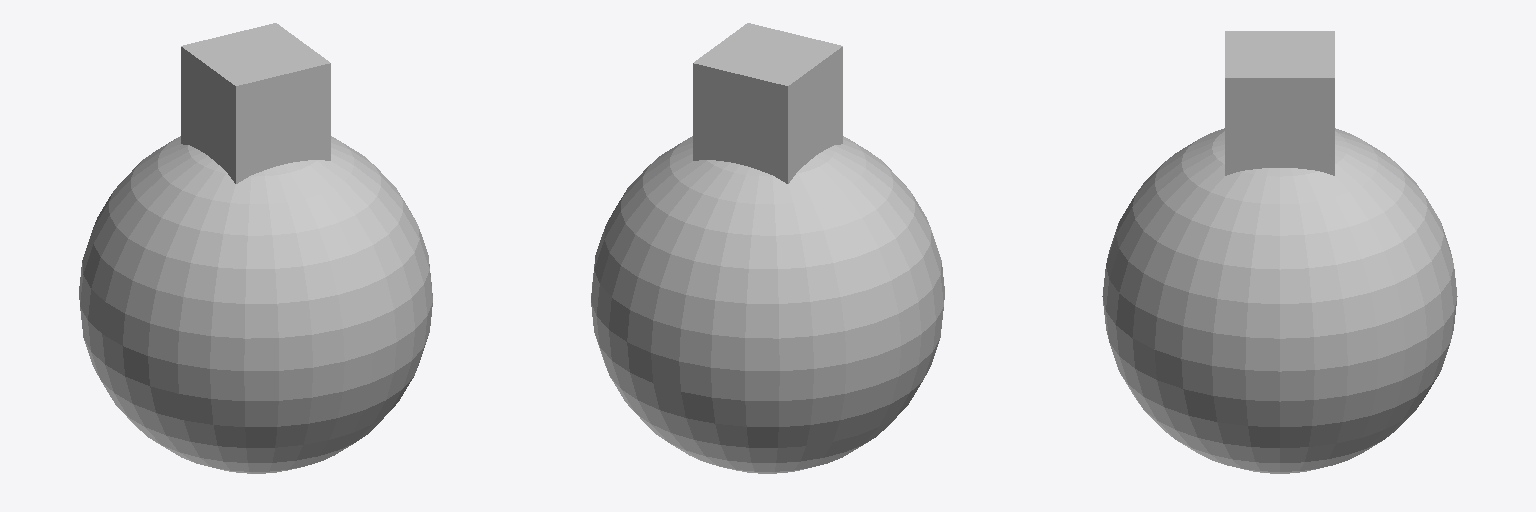
File: lamp.obj
3 renders of one model, left to right at view 1: azimuth 30°, elevation 25°; view 2: azimuth 150°, elevation 25°; view 3: azimuth 270°, elevation 25°, orthographic.
Visible parts, largest first — view 1: Cube_Cube.010; view 2: Cube_Cube.010; view 3: Cube_Cube.010.
Boxes of the visible parts, x1=… form: Cube_Cube.010: x1=79, y1=23, x2=432, y2=473; Cube_Cube.010: x1=591, y1=23, x2=944, y2=473; Cube_Cube.010: x1=1102, y1=31, x2=1457, y2=473.
Size of the model in its own units: 0.2828 by 0.3541 by 0.2828.